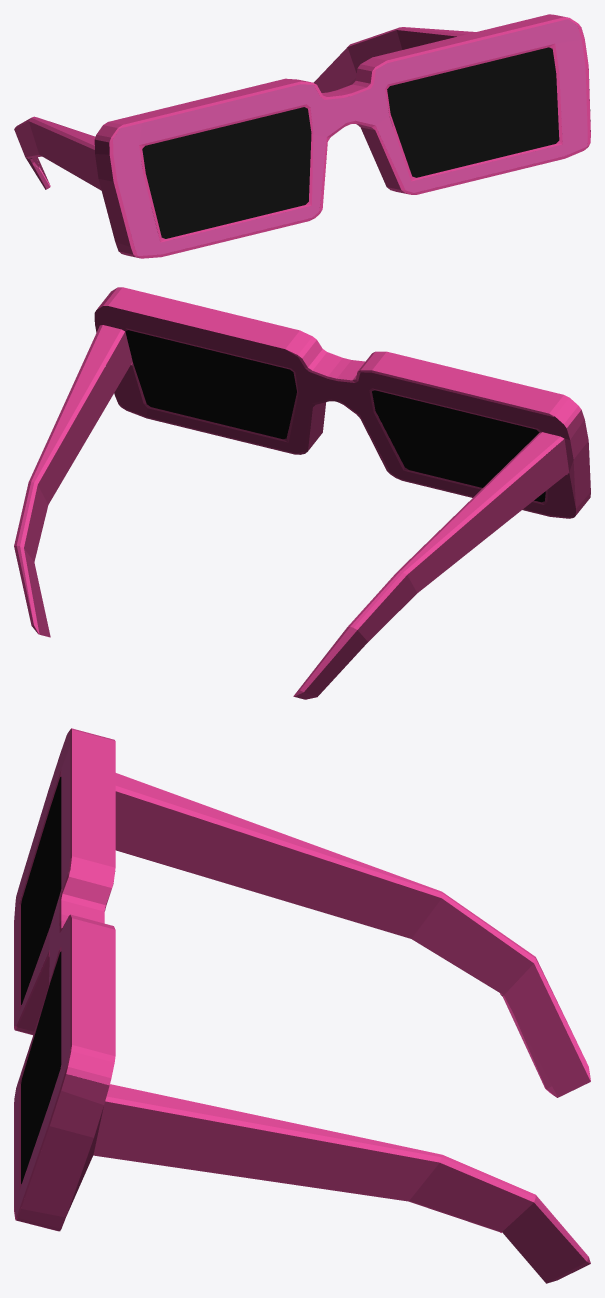
The model's file is sunglasses.glb.
3 renders of one model, top to bottom at view 1: azimuth 30°, elevation 25°; view 2: azimuth 150°, elevation 25°; view 3: azimuth 270°, elevation 25°, orthographic. The views are drawn at different scales.
Visible parts, largest first — view 1: Cube.003; view 2: Cube.003; view 3: Cube.003.
Part boxes in pixels (<box>): Cube.003: <box>14,14,590,258</box>; Cube.003: <box>14,287,590,699</box>; Cube.003: <box>14,728,590,1283</box>.
Bounding box in the file's own units: 0.7173 × 0.2975 × 0.5151.
